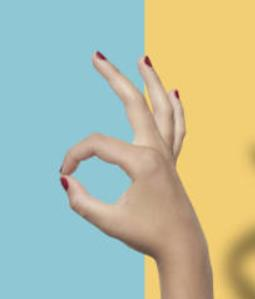left: (57, 48, 205, 245)
